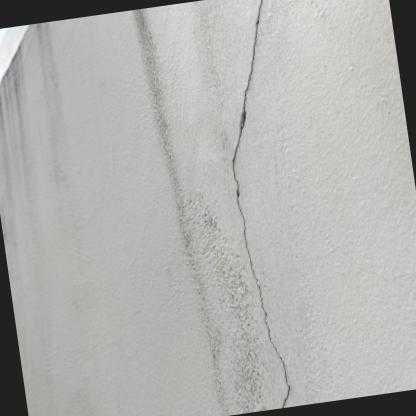crack: (231, 0, 289, 408)
